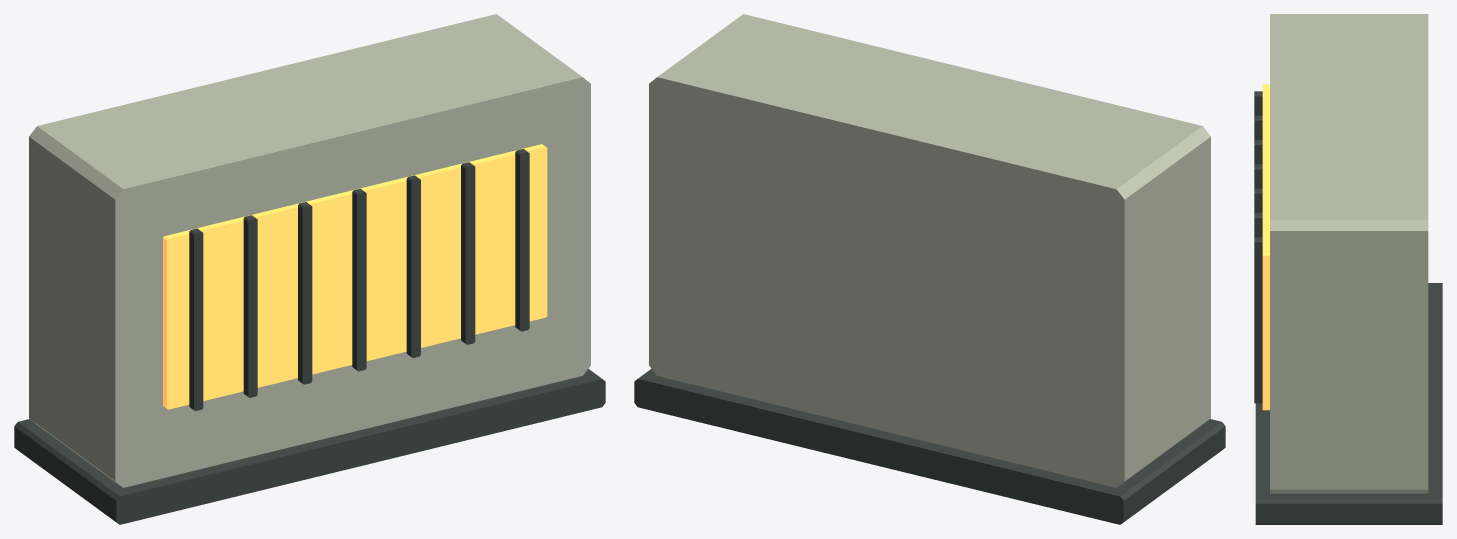
The model's file is ElectricHeater.gltf.
3 views of the same model, side by side, from view 1: azimuth 30°, elevation 25°; view 2: azimuth 150°, elevation 25°; view 3: azimuth 270°, elevation 25° (orthographic). The views are drawn at different scales.
Parts seen in each view (by area): view 1: ElectricHeater; view 2: ElectricHeater; view 3: ElectricHeater.
Boxes of the visible parts, left/top/right/bottom form: ElectricHeater: left=14, top=14, right=605, bottom=524; ElectricHeater: left=634, top=14, right=1225, bottom=524; ElectricHeater: left=1254, top=14, right=1442, bottom=524.
Size of the model in its own units: 0.72 by 0.46 by 0.262.
